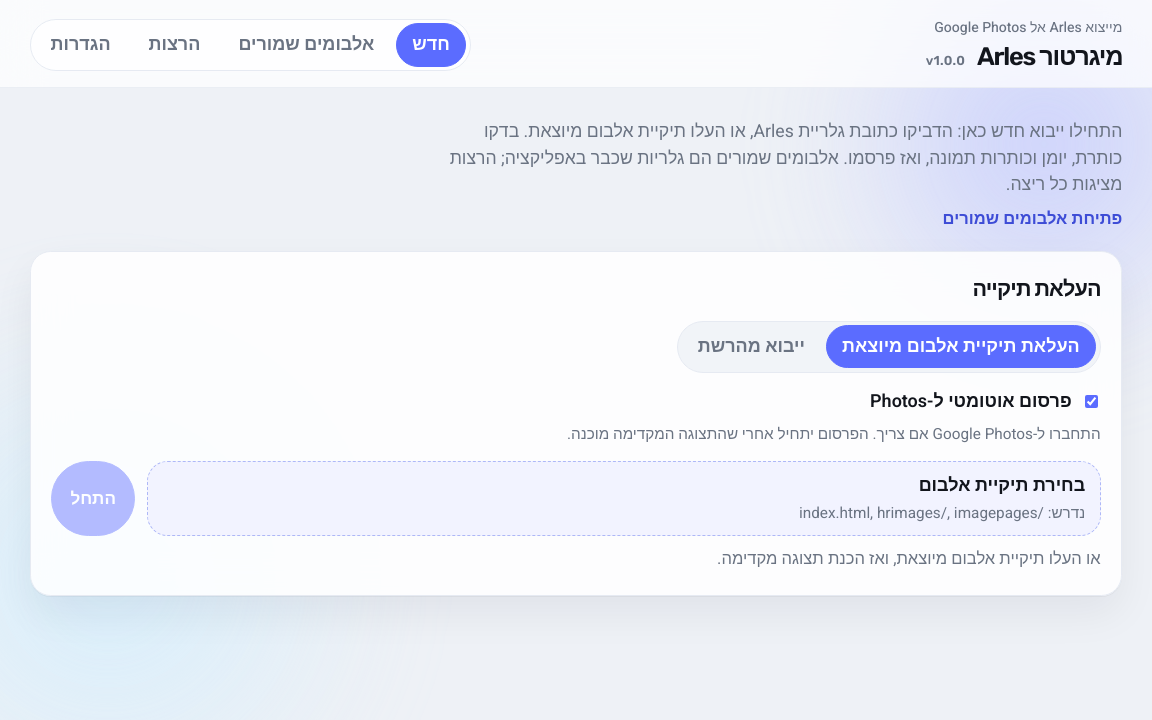
Test: App routes › header has a settings link that opens the settings page
Click the link "הגדרות".
click(81, 45)  # box [51, 32, 111, 58]
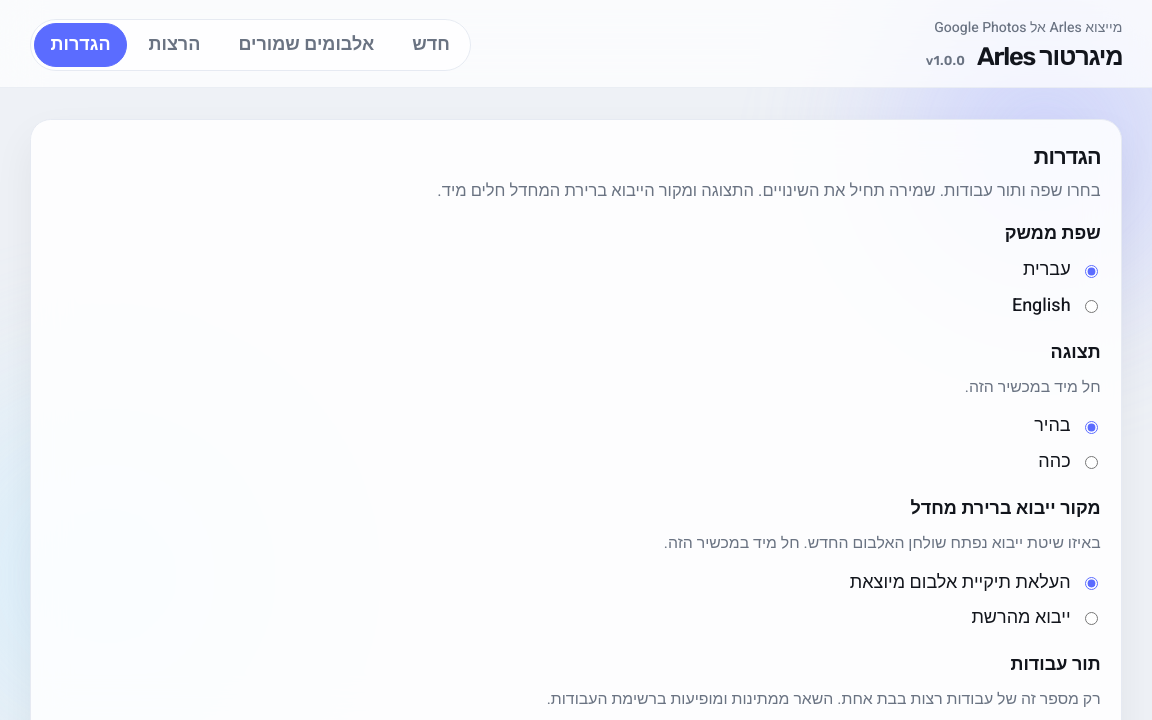
expect the heading "הגדרות" is shown: met, box [1034, 144, 1101, 169]
